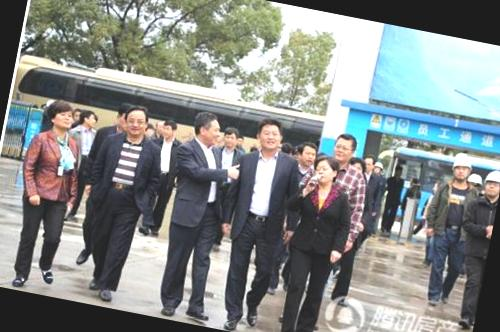no_helmet: (39, 96, 80, 136), (252, 114, 289, 157), (188, 106, 225, 148), (118, 99, 152, 140), (329, 128, 360, 166), (290, 134, 322, 170), (312, 152, 342, 185), (218, 123, 241, 153), (76, 104, 100, 132), (158, 118, 182, 142), (360, 150, 377, 174)
